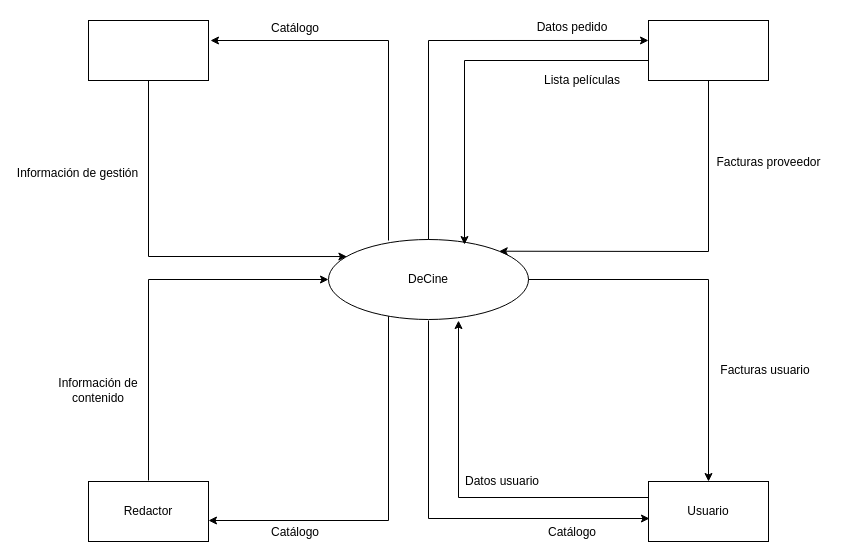
Image size: 842x559. Some labels were removed from this diagram. Here are the shapes that lost their labels. From the top down, the box of each, then its label:
(88, 20, 208, 80): Administrador
(648, 20, 768, 80): Proveedor
